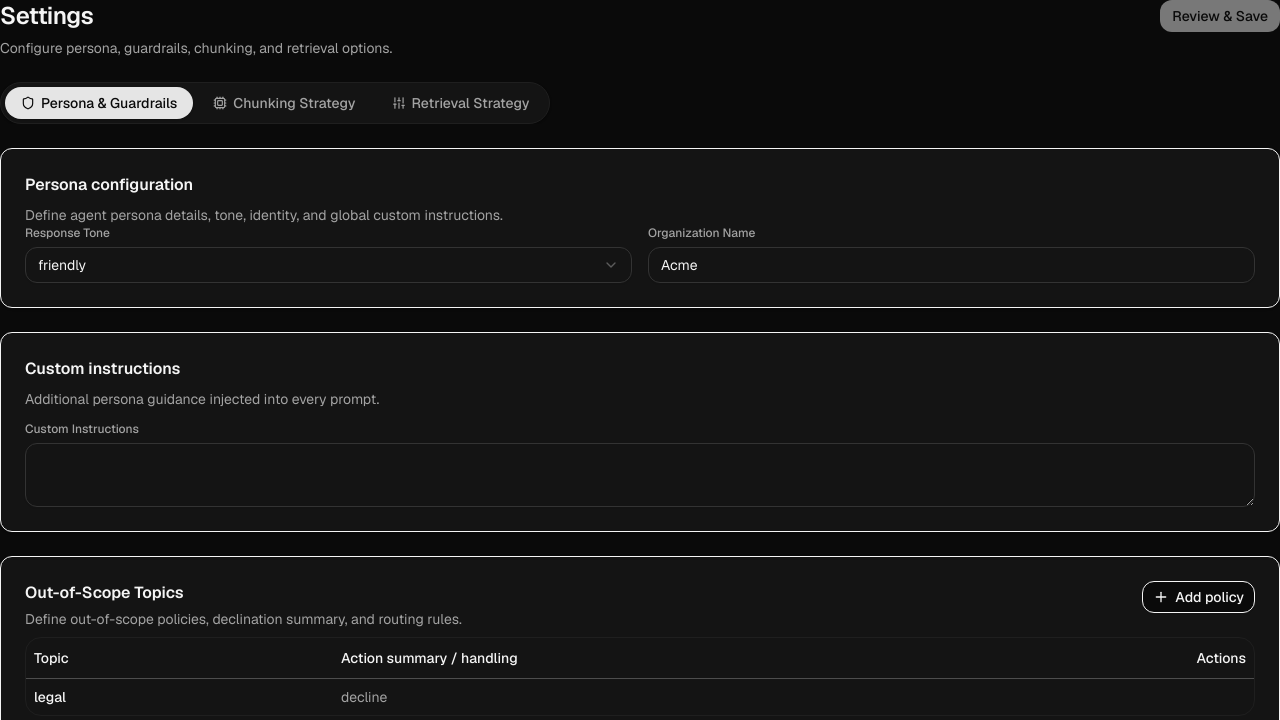
Test case: SettingsClient › shows a diff preview of changed fields old to new
The width and height of the screenshot is (1280, 720).
Expected: the text "Organization Name" is shown, [648,225,756,241]
Replace the text in the field labelled "Organization Name" with "Globex" at (952, 265), box [648,247,1255,283]
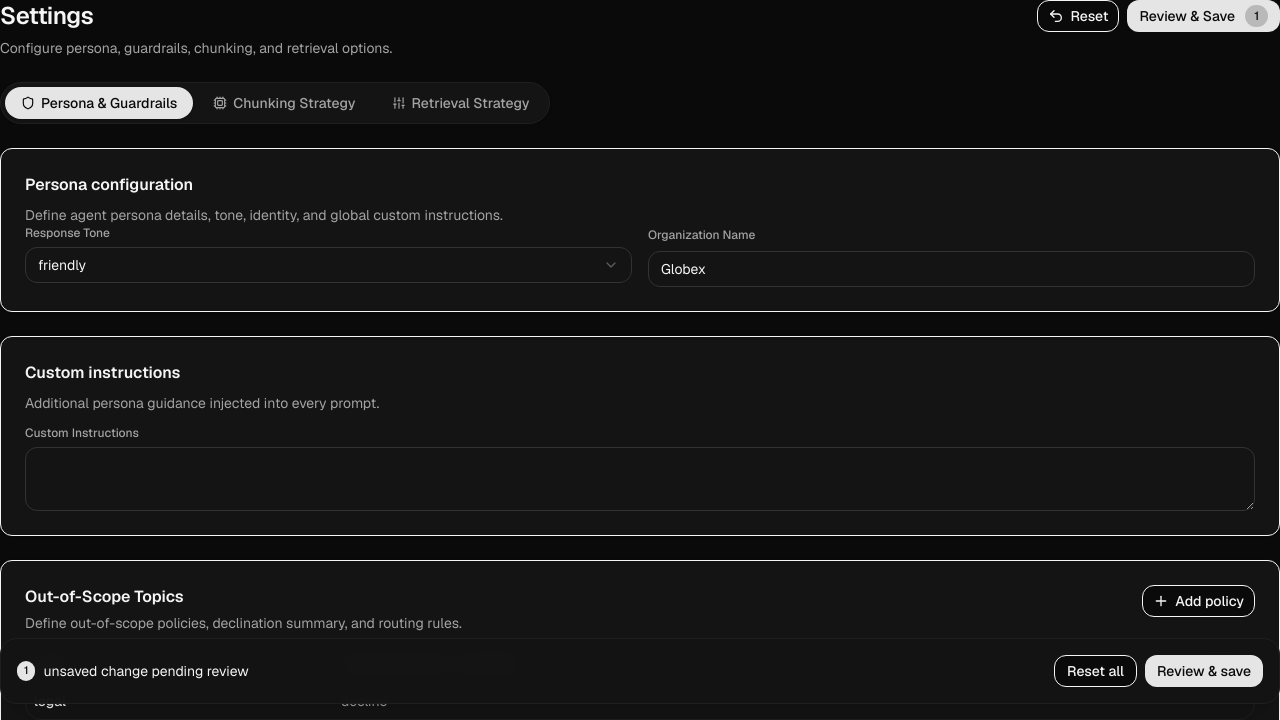
Click the button with test id "review-save" at (1204, 16), box [1127,0,1279,32]
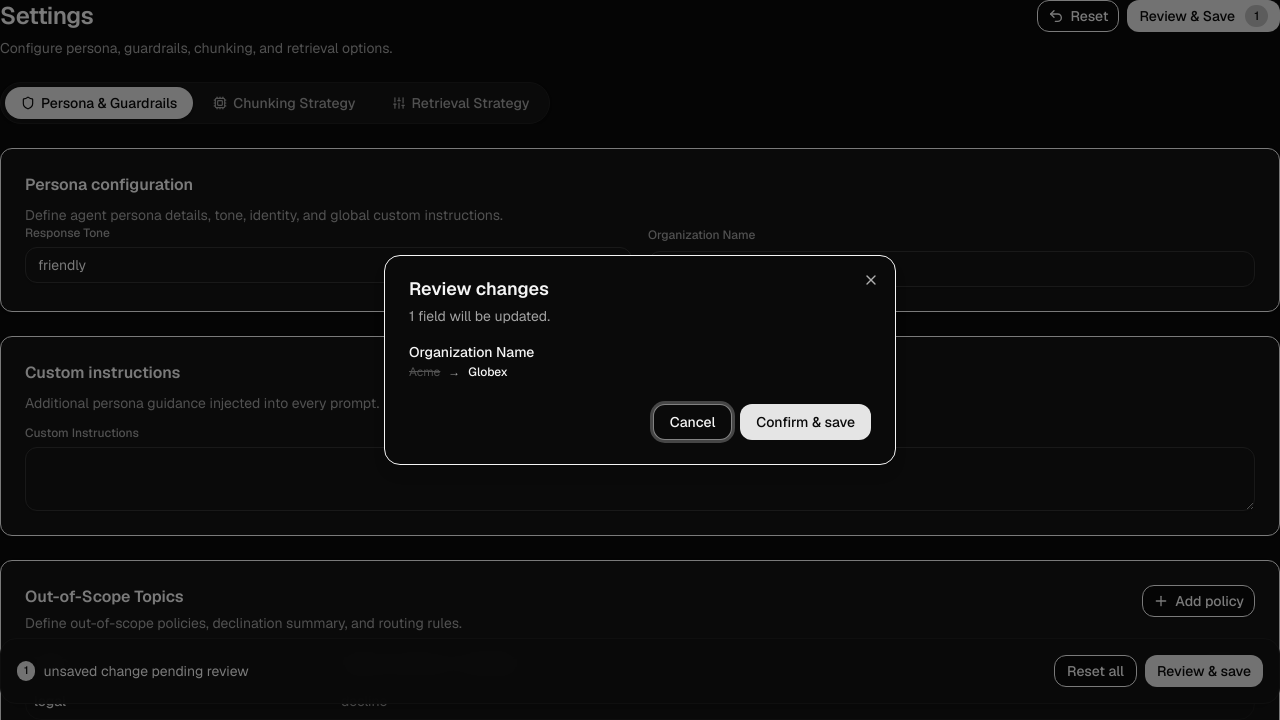
Result: the text "Acme" is shown at [409,364,440,380]
Result: the text "Globex" is shown at [468,364,508,380]
